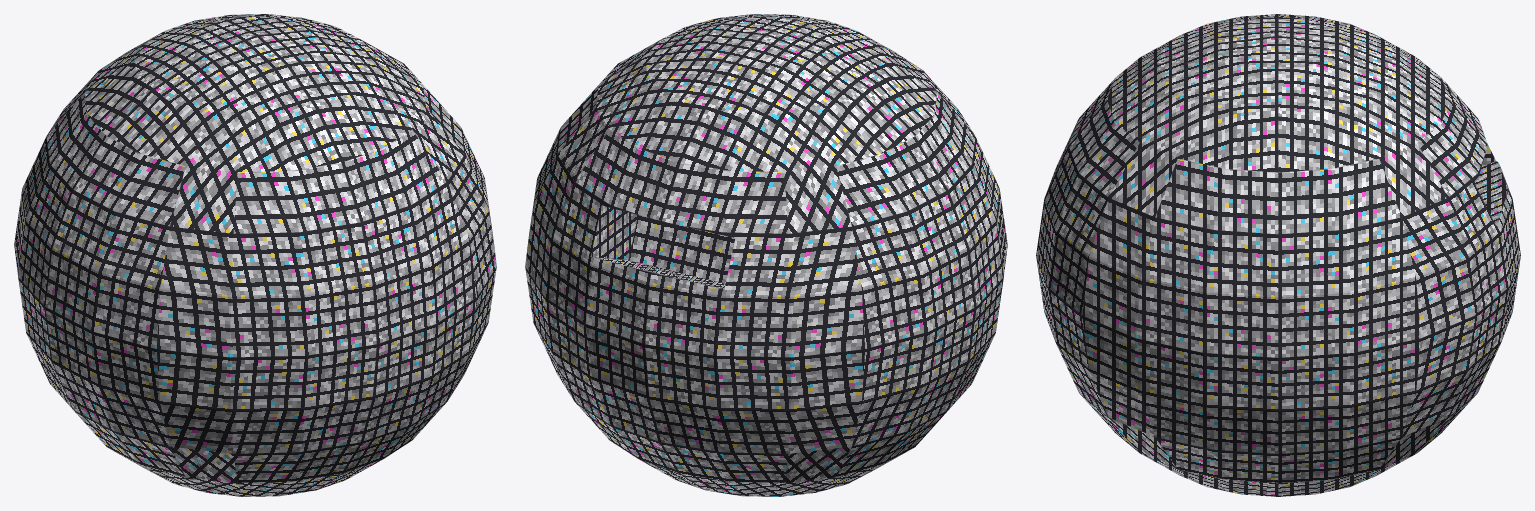
Rendered from x_wreck_disco.glb.
3 renders of one model, left to right at view 1: azimuth 30°, elevation 25°; view 2: azimuth 150°, elevation 25°; view 3: azimuth 270°, elevation 25°, orthographic.
Visible parts, largest first — view 1: ball_shell.001; view 2: ball_shell.001; view 3: ball_shell.001.
Part boxes in pixels (bbox=[...]): ball_shell.001: bbox=[14, 14, 496, 496]; ball_shell.001: bbox=[525, 14, 1007, 496]; ball_shell.001: bbox=[1036, 14, 1520, 496].
Size of the model in its own units: 2.2 by 2.2 by 2.2.
Materials: 1 (1 with a texture image).
